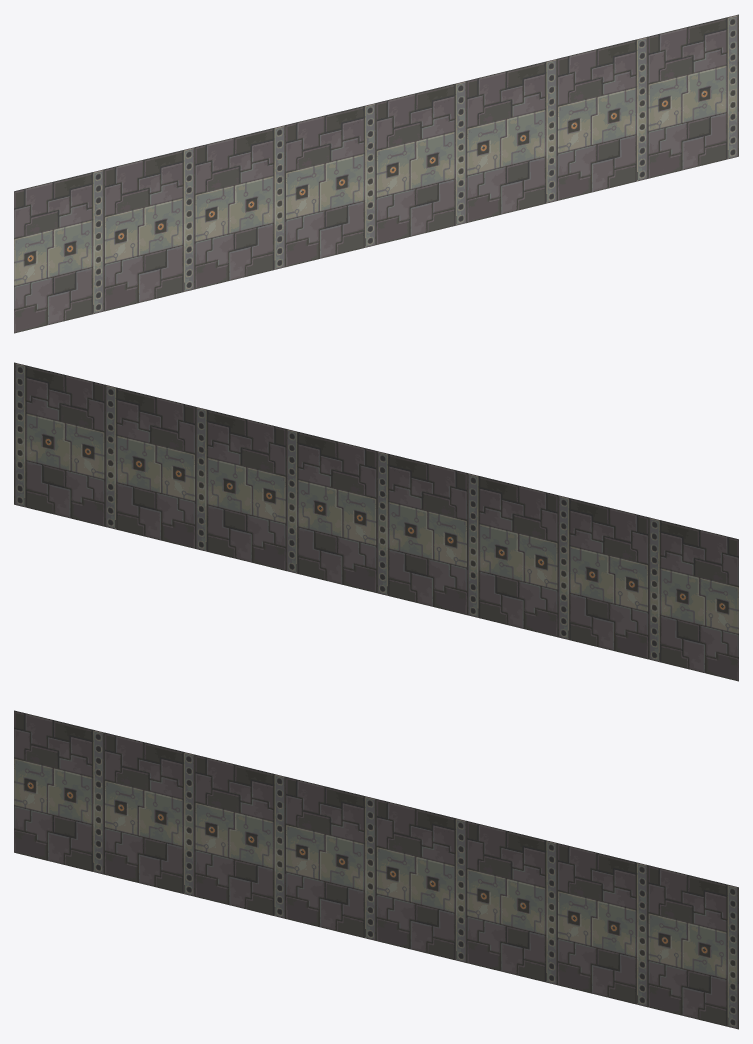
Rendered from Wall1-8.fbx.
3 renders of one model, top to bottom at view 1: azimuth 30°, elevation 25°; view 2: azimuth 150°, elevation 25°; view 3: azimuth 330°, elevation 25°, orthographic.
Parts seen in each view (by area): view 1: Wall1-8; view 2: Wall1-8; view 3: Wall1-8.
Part boxes in pixels (x1=…): Wall1-8: x1=14, y1=14, x2=738, y2=333; Wall1-8: x1=14, y1=362, x2=738, y2=681; Wall1-8: x1=14, y1=710, x2=738, y2=1029.
Size of the model in its own units: 32 by 6 by 8.9e-07.
1 material, 1 textured.
